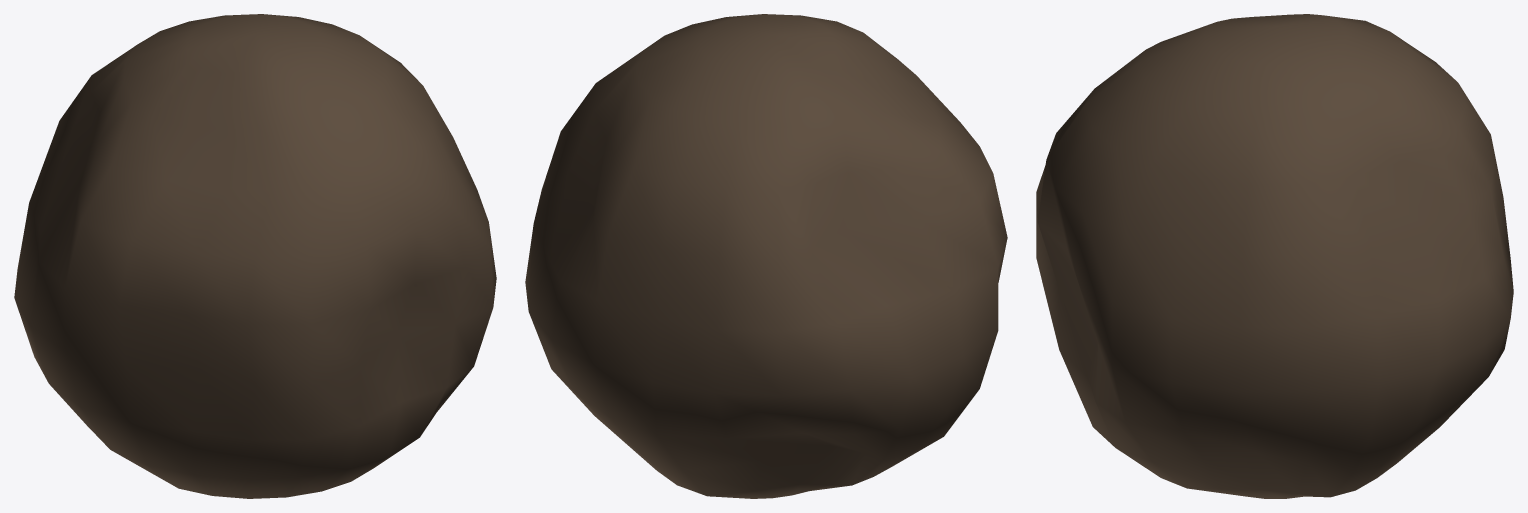
Rendered from Rolling_boulder.fbx.
3 renders of one model, left to right at view 1: azimuth 30°, elevation 25°; view 2: azimuth 150°, elevation 25°; view 3: azimuth 270°, elevation 25°, orthographic. The views are drawn at different scales.
Visible parts, largest first — view 1: Rolling boulder; view 2: Rolling boulder; view 3: Rolling boulder.
Boxes of the visible parts, x1,y1,x2,y2 form: Rolling boulder: [14, 14, 496, 498]; Rolling boulder: [525, 14, 1007, 498]; Rolling boulder: [1036, 14, 1513, 498].
Bounding box in the file's own units: 110 × 109 × 106.
